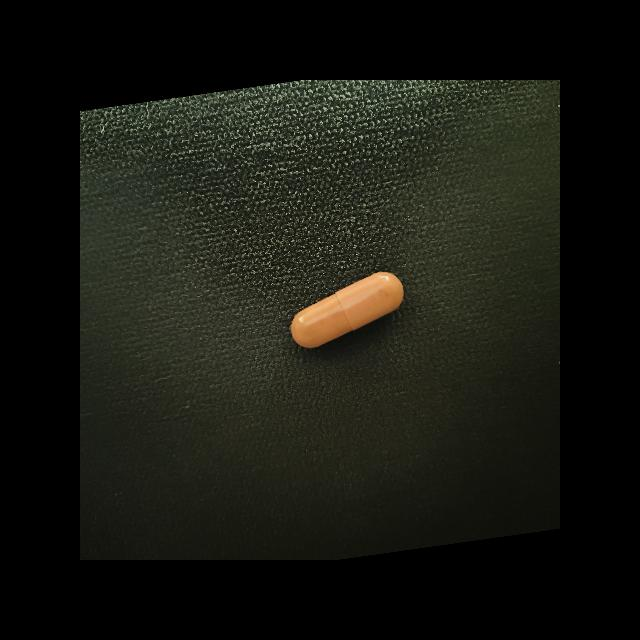Intact Capsule: (291, 272, 403, 348)
